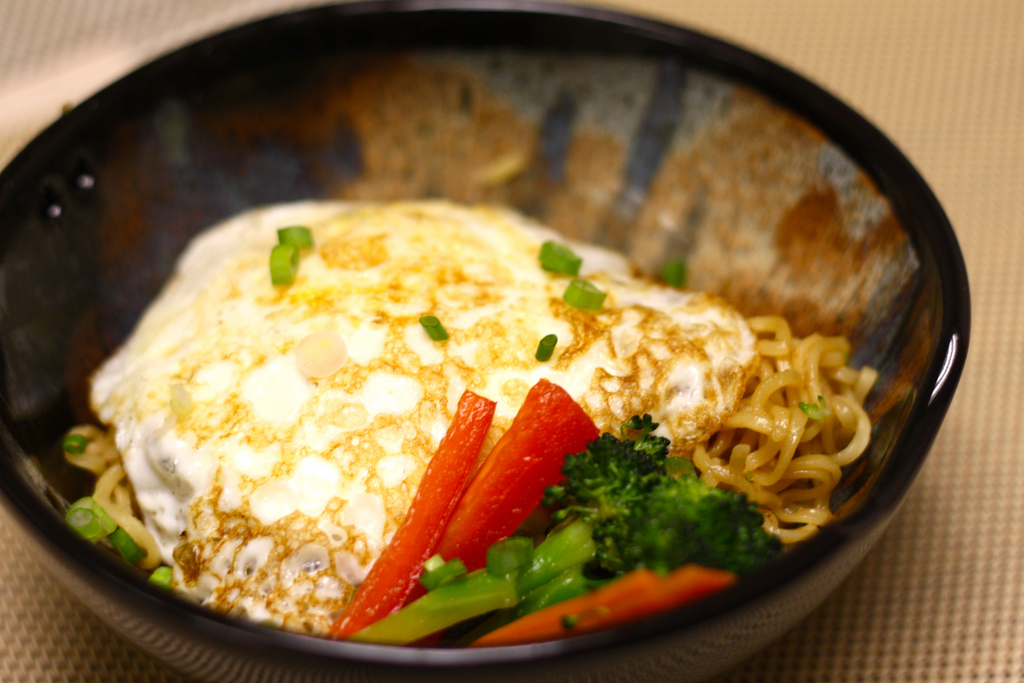fried egg: (125, 198, 692, 570)
plain spaghetti: (715, 291, 856, 557)
